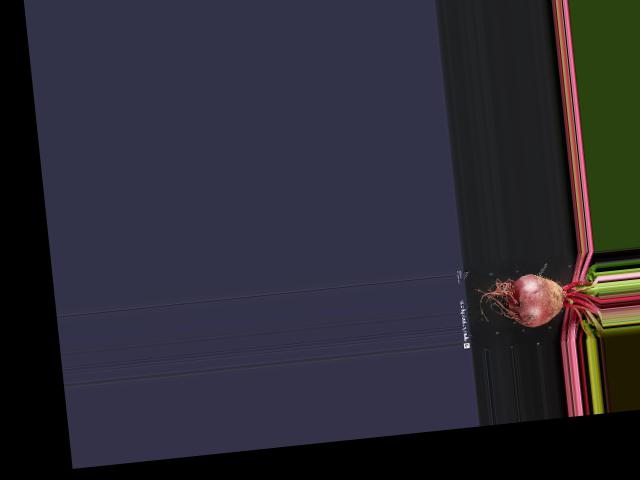beet: (471, 266, 603, 350)
